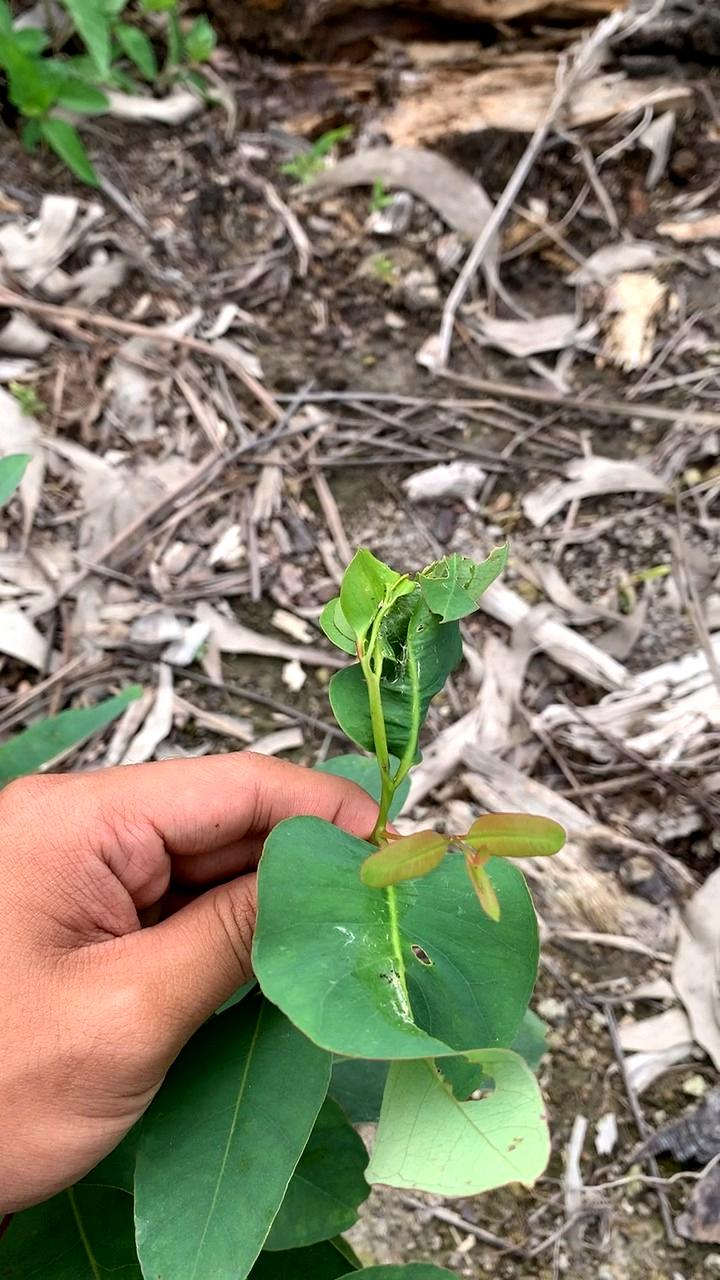Leaf Roller - Leaf: (316, 548, 513, 753)
